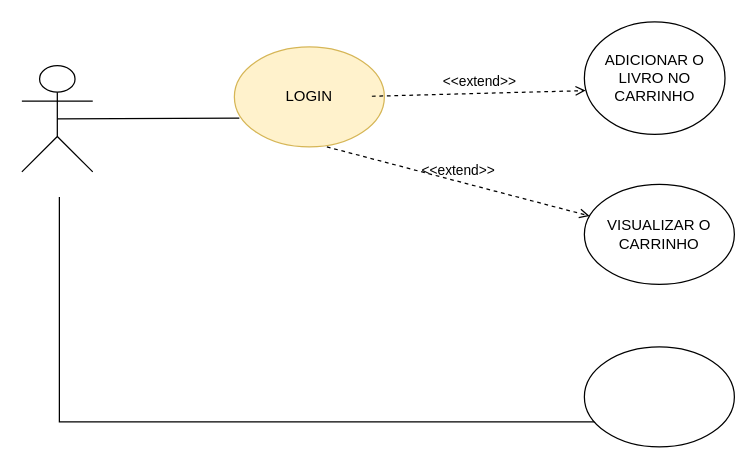
This 756x469 diagram has some shape labels left out. Here are the shapes that lost their labels. From the top down, the centre of each, then its label:
(x=57, y=118): Cliente
(x=658, y=396): CONCLUIR O PEDIDO
